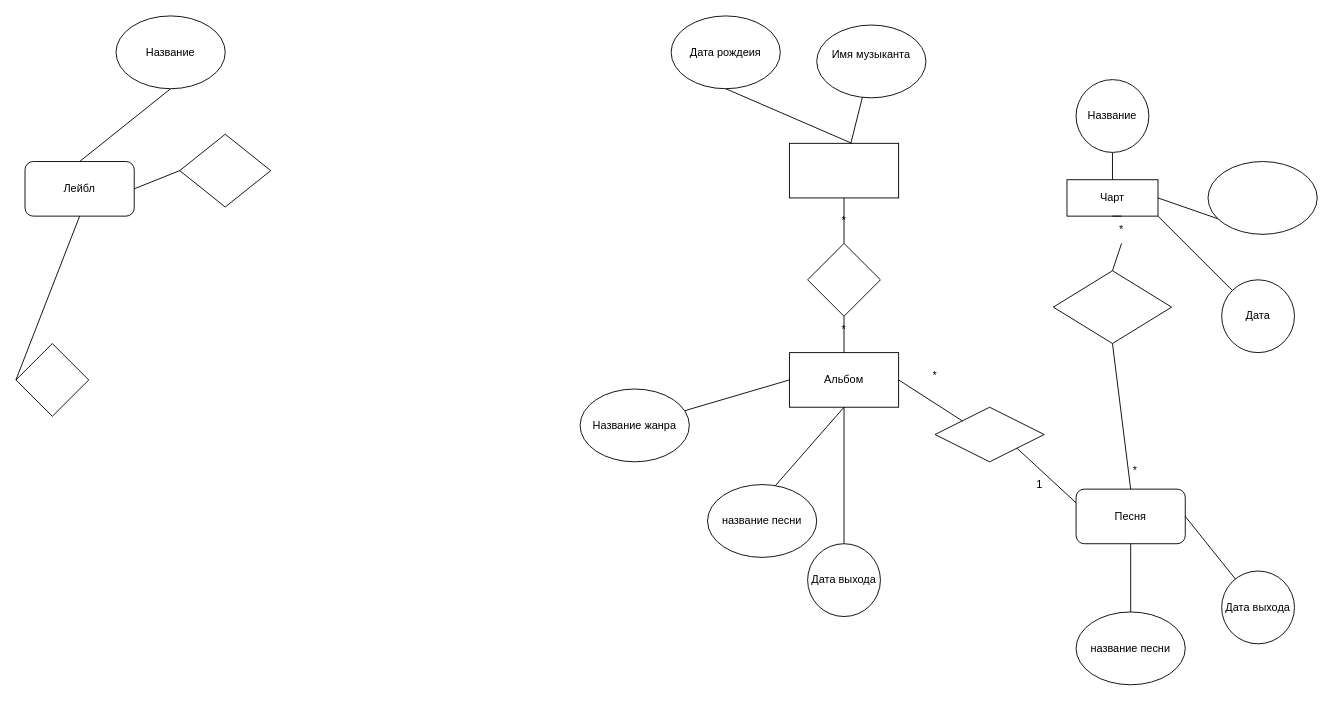
Image size: 1333x701. Some labels were removed from this diagram. The centre of each missing label's shape, as x and y in pixels:
Входит в состав: the point at 989,434
Выпускает: the point at 843,279
Издает: the point at 52,379
Место в чарте: the point at 1262,197
Музыкант: the point at 844,170
Подписывает: the point at 225,170
Чарт(как участие): the point at 1112,307
